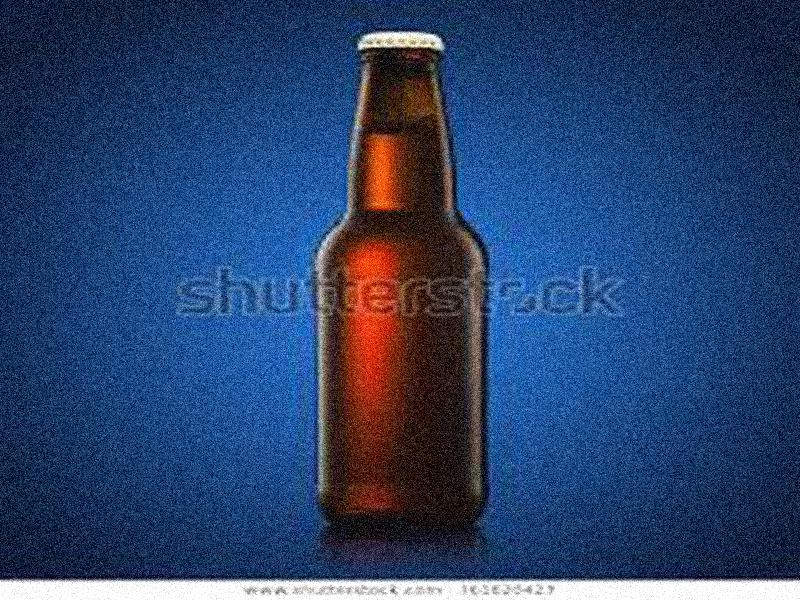Beer: (315, 29, 489, 524)
